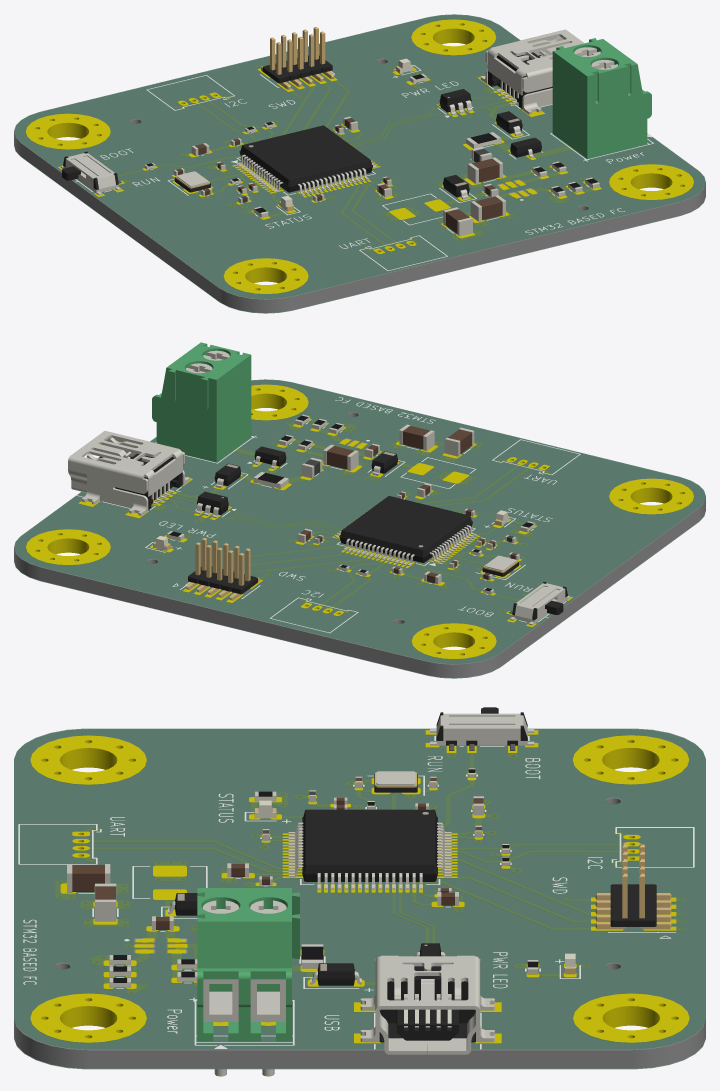
Rendered from STMFC.glb.
3 renders of one model, top to bottom at view 1: azimuth 30°, elevation 25°; view 2: azimuth 150°, elevation 25°; view 3: azimuth 270°, elevation 25°, orthographic. The views are drawn at different scales.
Parts seen in each view (by area): view 1: =>[0:1:1:23], =>[0:1:1:24], =>[0:1:1:21], J1, U1, J3, J2, =>[0:1:1:22], SW1, C15, C13, U3 (+3 smaller); view 2: =>[0:1:1:23], =>[0:1:1:24], =>[0:1:1:21], J1, J3, U1, J2, =>[0:1:1:22], SW1, C15, C13, C16 (+2 smaller); view 3: =>[0:1:1:23], =>[0:1:1:24], =>[0:1:1:21], J1, U1, J3, =>[0:1:1:22], J2, SW1, C16, D3, Y1 (+2 smaller).
Boxes of the visible parts, <box> form: =>[0:1:1:23]: <box>14,14,705,313</box>; =>[0:1:1:24]: <box>14,15,705,312</box>; =>[0:1:1:21]: <box>26,19,693,293</box>; J1: <box>552,38,651,158</box>; U1: <box>236,125,376,195</box>; J3: <box>480,29,584,114</box>; J2: <box>261,27,334,89</box>; =>[0:1:1:22]: <box>75,65,653,270</box>; SW1: <box>60,151,121,195</box>; C15: <box>470,195,505,221</box>; C13: <box>467,157,502,183</box>; U3: <box>438,89,472,115</box>; =>[0:1:1:23]: <box>14,379,705,678</box>; =>[0:1:1:24]: <box>14,380,705,678</box>; =>[0:1:1:21]: <box>26,384,693,658</box>; J1: <box>152,342,251,462</box>; J3: <box>68,431,189,515</box>; U1: <box>335,496,476,565</box>; J2: <box>186,538,259,600</box>; =>[0:1:1:22]: <box>76,397,580,633</box>; SW1: <box>509,581,570,625</box>; C15: <box>399,424,434,450</box>; C13: <box>323,444,358,470</box>; C16: <box>444,427,474,456</box>; =>[0:1:1:23]: <box>14,728,705,1069</box>; =>[0:1:1:24]: <box>14,729,705,1068</box>; =>[0:1:1:21]: <box>30,730,689,1043</box>; J1: <box>197,888,299,1076</box>; U1: <box>288,809,451,889</box>; J3: <box>360,955,494,1054</box>; =>[0:1:1:22]: <box>18,735,694,1049</box>; J2: <box>595,844,671,929</box>; SW1: <box>430,707,534,750</box>; C16: <box>67,864,110,892</box>; D3: <box>310,963,361,985</box>; Y1: <box>374,771,417,792</box>.
Size of the model in its own units: 0.058 by 0.0137 by 0.051.
